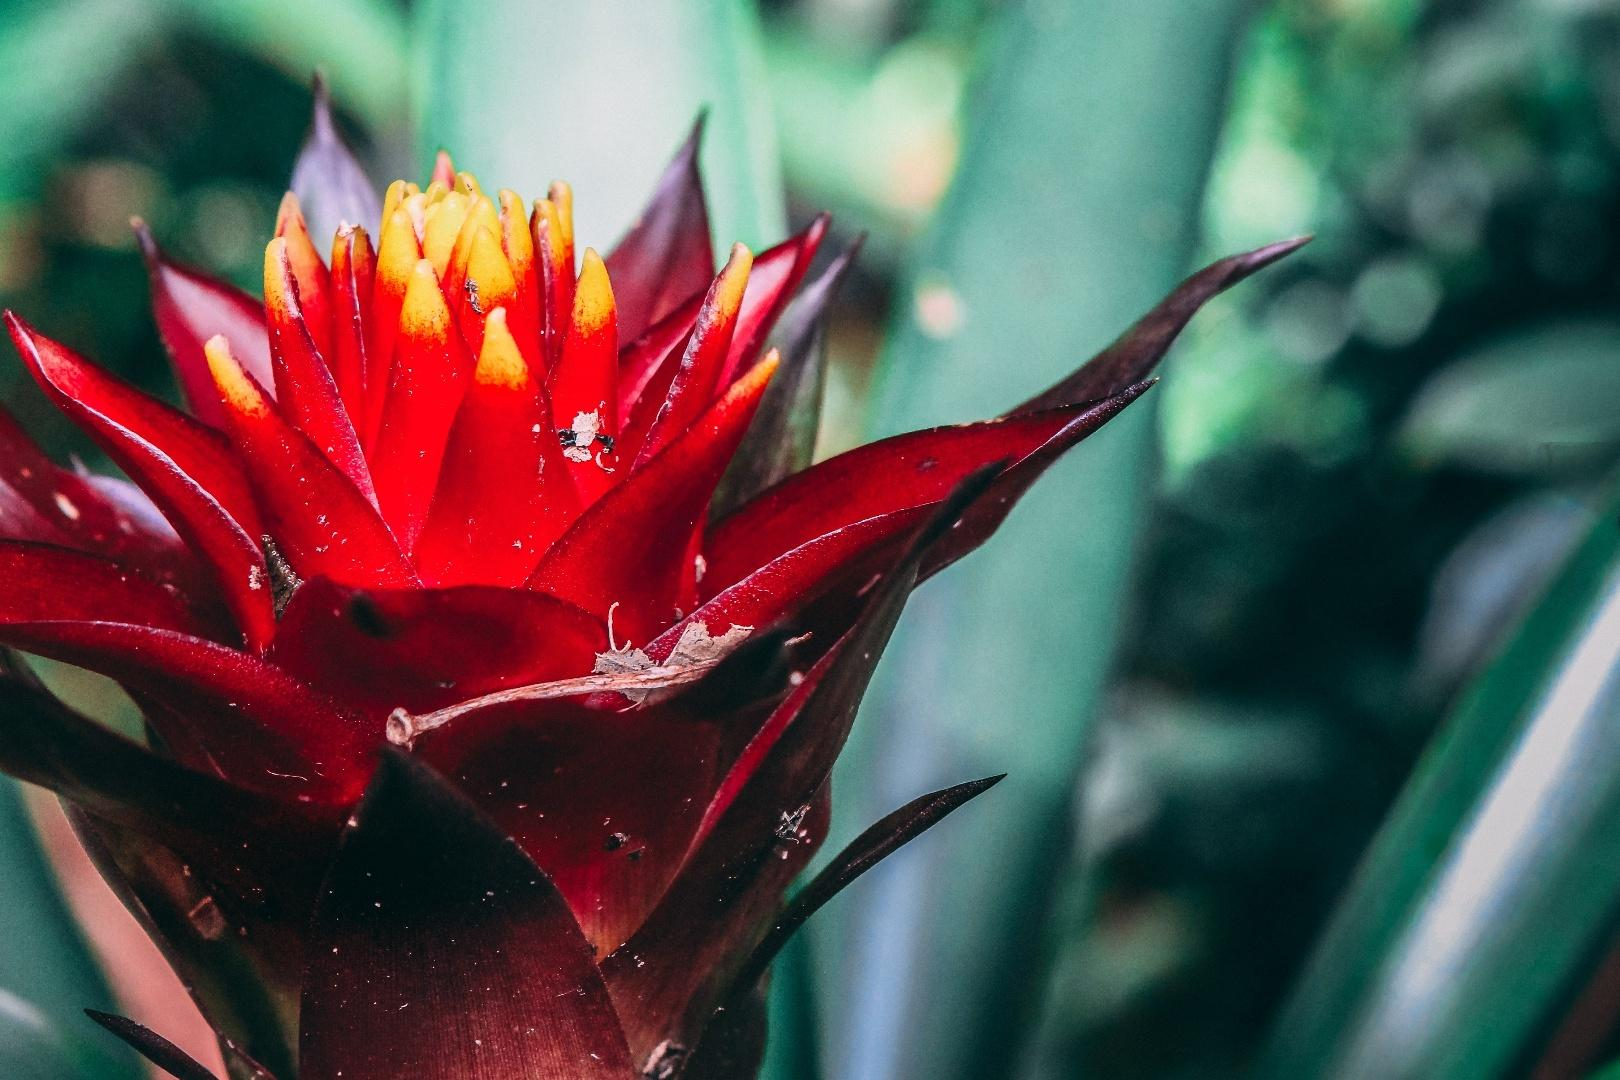trashbox-cardboard: (1479, 442, 1620, 775)
